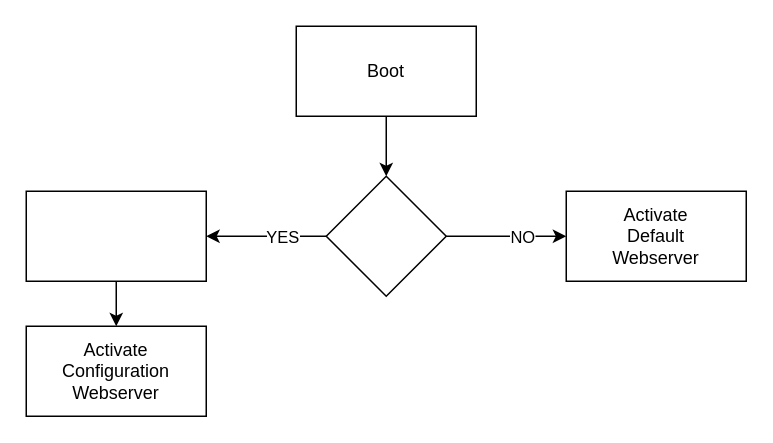
Image size: 773x443. Some labels were removed from this diagram. Each missing label, with the centre of its shape:
"Activate Interal WiFi" belongs at [115,235].
"First Boot" belongs at [385,235].
